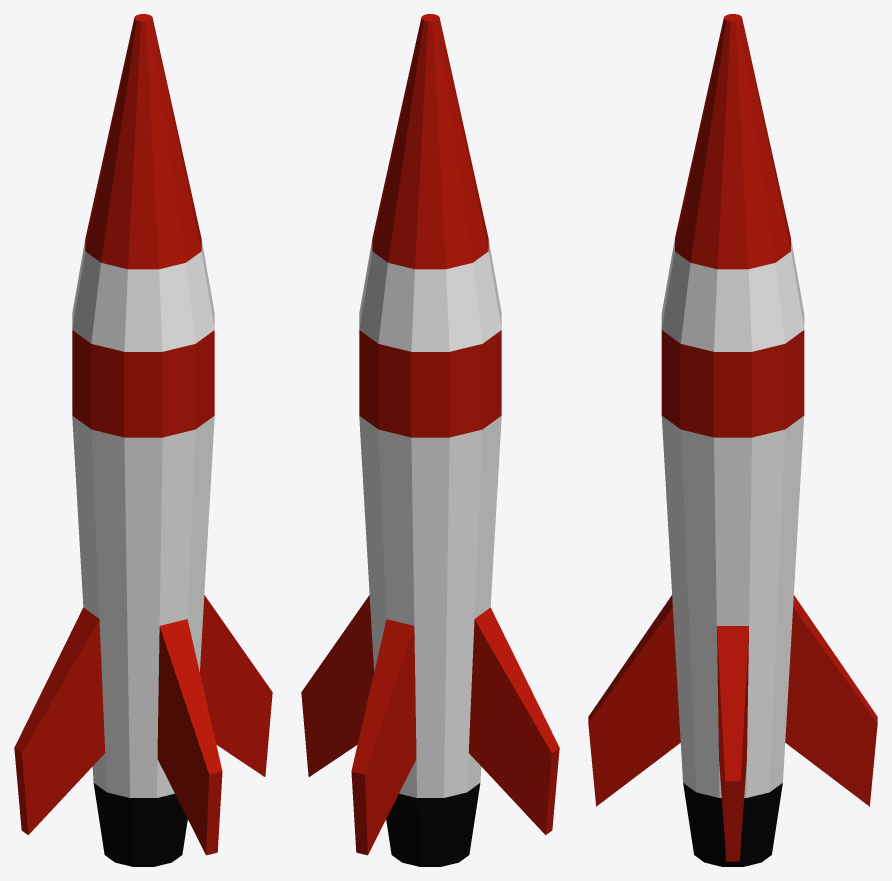
The model's file is RedMissileModel.fbx.
The picture shows the model from 3 angles, left to right: view 1: azimuth 30°, elevation 25°; view 2: azimuth 150°, elevation 25°; view 3: azimuth 270°, elevation 25°; orthographic projection.
Parts seen in each view (by area): view 1: RedMissileMesh; view 2: RedMissileMesh; view 3: RedMissileMesh.
Part boxes in pixels (bbox=[...]): RedMissileMesh: bbox=[14, 14, 272, 866]; RedMissileMesh: bbox=[301, 14, 559, 866]; RedMissileMesh: bbox=[588, 14, 877, 866].
Bounding box in the file's own units: 31.37 × 99.61 × 31.37.
